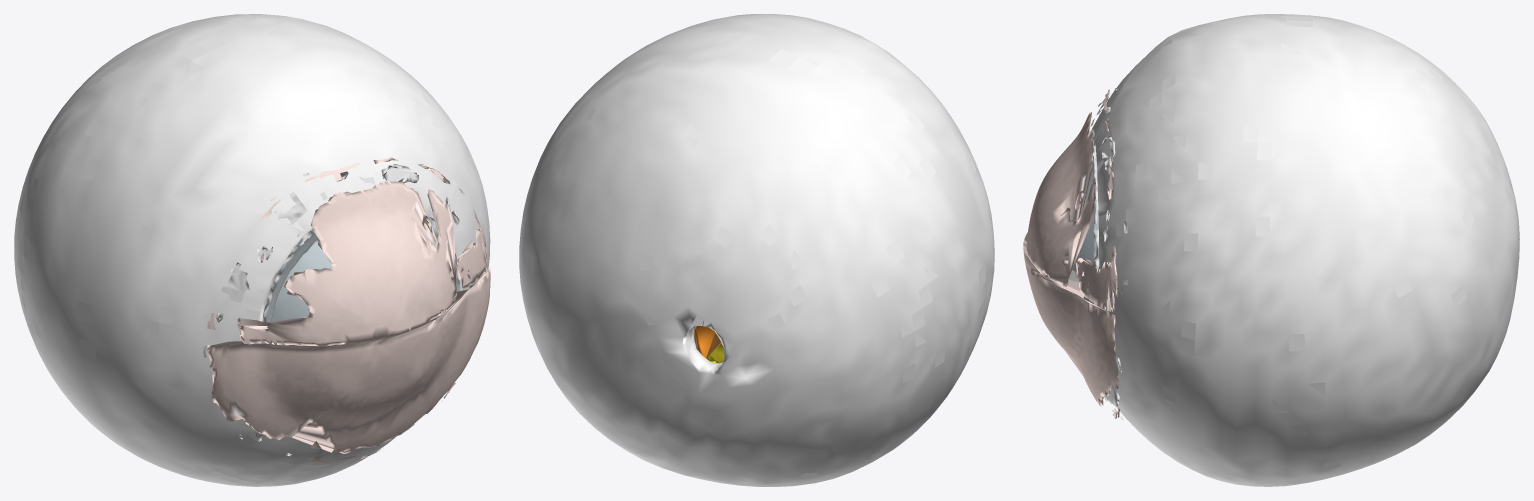
Rendered from 3d-vh-f-eye-l-80.fbx.
The picture shows the model from 3 angles, left to right: view 1: azimuth 30°, elevation 25°; view 2: azimuth 150°, elevation 25°; view 3: azimuth 270°, elevation 25°; orthographic projection.
Parts seen in each view (by area): view 1: VH_F_sclera_L, VH_F_palpebral_conjunctiva_of_left_lower_eyelid, VH_F_palpebral_conjunctiva_of_left_upper_eyelid, VH_F_cornea_L, VH_F_bulbar_conjunctiva_L, VH_F_aqueous_humor_L, VH_F_corneo_scleral_junction_L; view 2: VH_F_sclera_L, VH_F_optic_choroid_L; view 3: VH_F_sclera_L, VH_F_palpebral_conjunctiva_of_left_upper_eyelid, VH_F_palpebral_conjunctiva_of_left_lower_eyelid, VH_F_bulbar_conjunctiva_L, VH_F_cornea_L, VH_F_aqueous_humor_L, VH_F_corneo_scleral_junction_L.
Boxes of the visible parts, x1,y1,x2,y2 form: VH_F_sclera_L: (14,14,490,486); VH_F_palpebral_conjunctiva_of_left_lower_eyelid: (207,267,490,463); VH_F_palpebral_conjunctiva_of_left_upper_eyelid: (207,157,486,346); VH_F_cornea_L: (262,215,459,321); VH_F_bulbar_conjunctiva_L: (203,164,473,459); VH_F_aqueous_humor_L: (272,241,332,321); VH_F_corneo_scleral_junction_L: (262,216,459,321); VH_F_sclera_L: (519,14,994,486); VH_F_optic_choroid_L: (694,326,721,363); VH_F_sclera_L: (1091,14,1519,486); VH_F_palpebral_conjunctiva_of_left_upper_eyelid: (1026,89,1117,312); VH_F_palpebral_conjunctiva_of_left_lower_eyelid: (1023,233,1119,418); VH_F_bulbar_conjunctiva_L: (1091,88,1128,419); VH_F_cornea_L: (1068,148,1097,304); VH_F_aqueous_humor_L: (1072,169,1095,303); VH_F_corneo_scleral_junction_L: (1089,130,1099,304).
Size of the model in its own units: 2.45 by 2.44 by 2.57.
